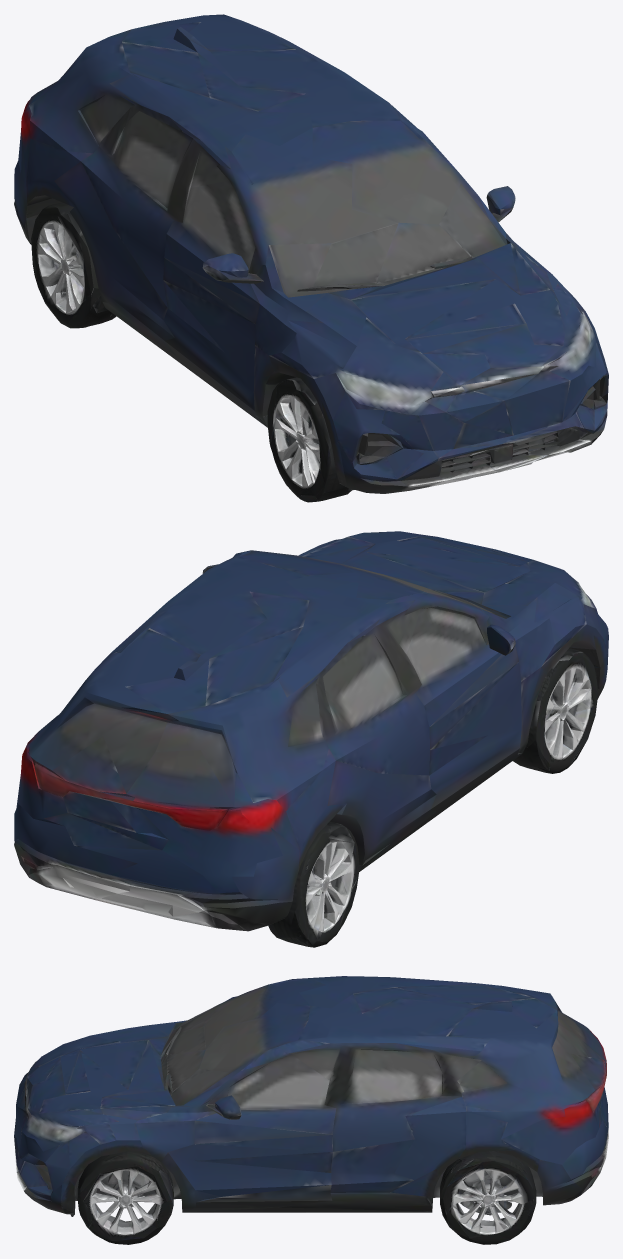
The model's file is car_suv.glb.
The picture shows the model from 3 angles, top to bottom: view 1: azimuth 30°, elevation 25°; view 2: azimuth 150°, elevation 25°; view 3: azimuth 270°, elevation 25°; orthographic projection. The views are drawn at different scales.
Visible parts, largest first — view 1: Mesh_0; view 2: Mesh_0; view 3: Mesh_0.
Part boxes in pixels (bbox=[...]): Mesh_0: bbox=[14, 14, 608, 502]; Mesh_0: bbox=[14, 531, 608, 947]; Mesh_0: bbox=[14, 976, 608, 1244].
Size of the model in its own units: 2.15 by 1.69 by 4.7.
1 material, 1 textured.
